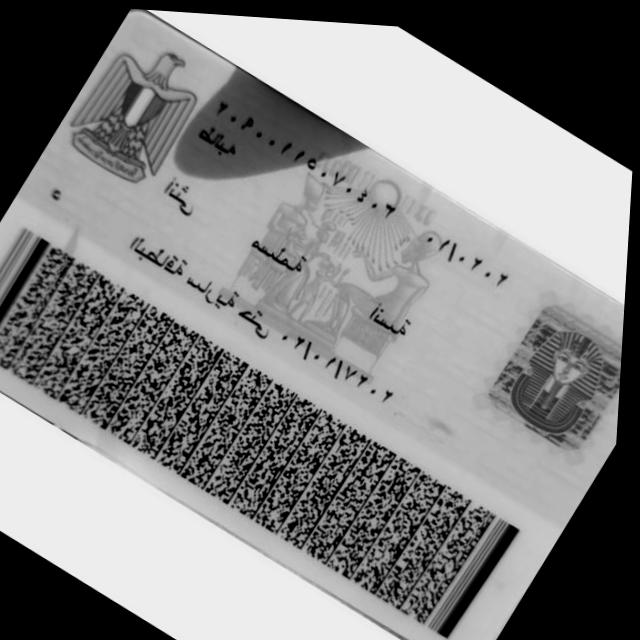id_card: (0, 9, 624, 640)
